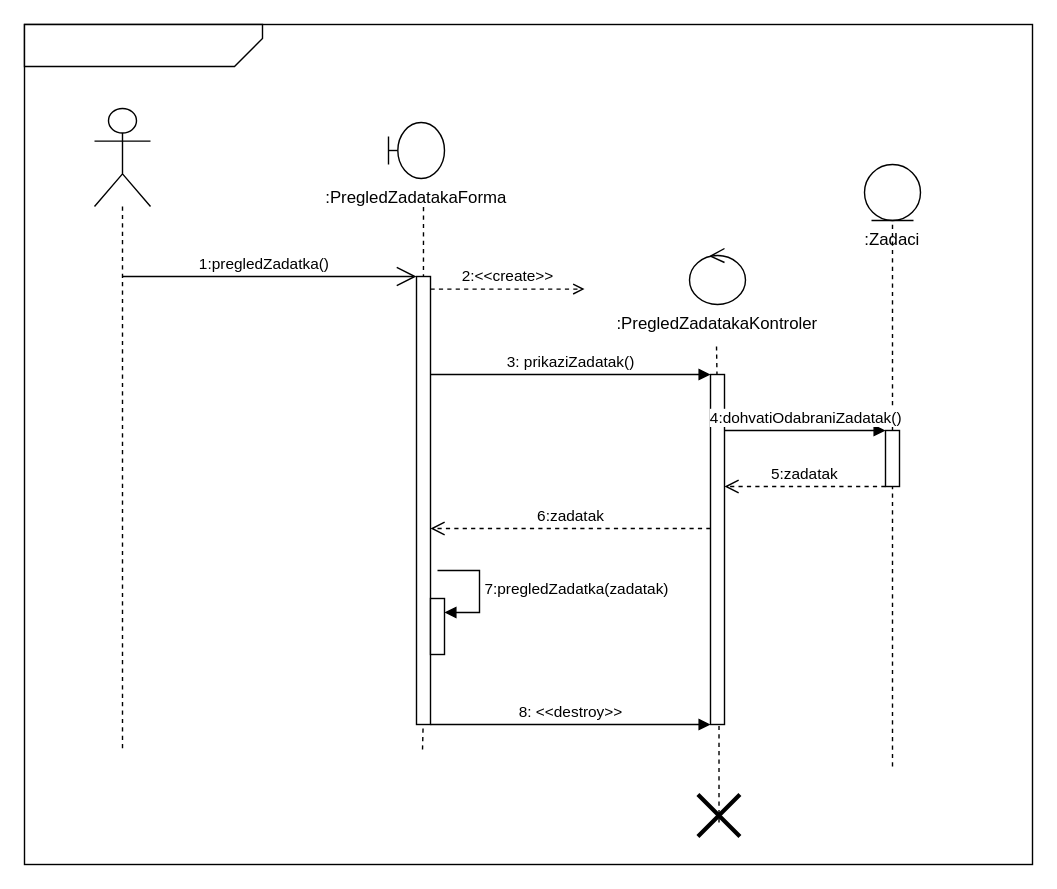
The diagram is 1057 pixels wide and 889 high, and some of its shapes have lost their labels. Here are the shapes that lost their labels. From the top down, the centre of each, then its label:
the point at 142,44: sd Pregled zadatka
the point at 121,156: Korisnik
